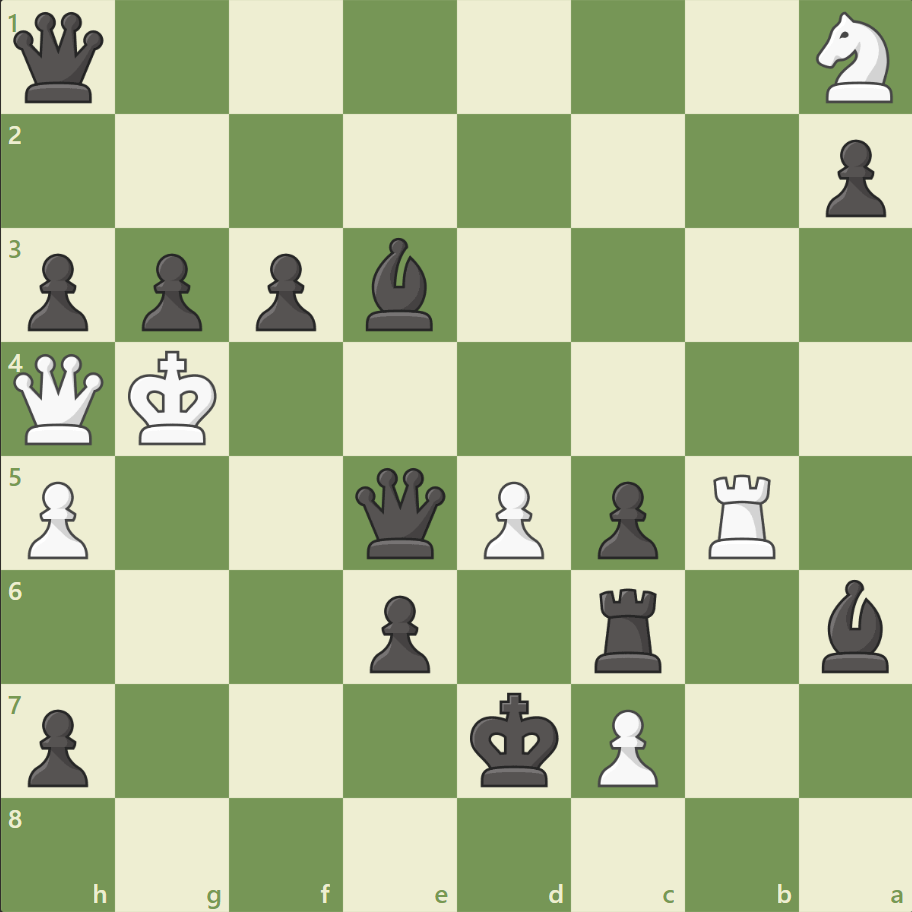K: (124, 344, 224, 452)
N: (806, 7, 903, 110)
P: (474, 473, 549, 564), (20, 473, 95, 564), (588, 700, 662, 791)
Q: (10, 349, 109, 449)
R: (700, 466, 783, 563)
b: (358, 233, 442, 336), (812, 574, 896, 676)
k: (465, 685, 565, 793)
p: (20, 700, 95, 791), (247, 246, 322, 337), (133, 246, 208, 337), (20, 246, 95, 337), (361, 586, 435, 677), (588, 473, 662, 564), (815, 132, 889, 223)
q: (351, 463, 450, 562), (10, 9, 109, 108)
r: (587, 579, 670, 676)
